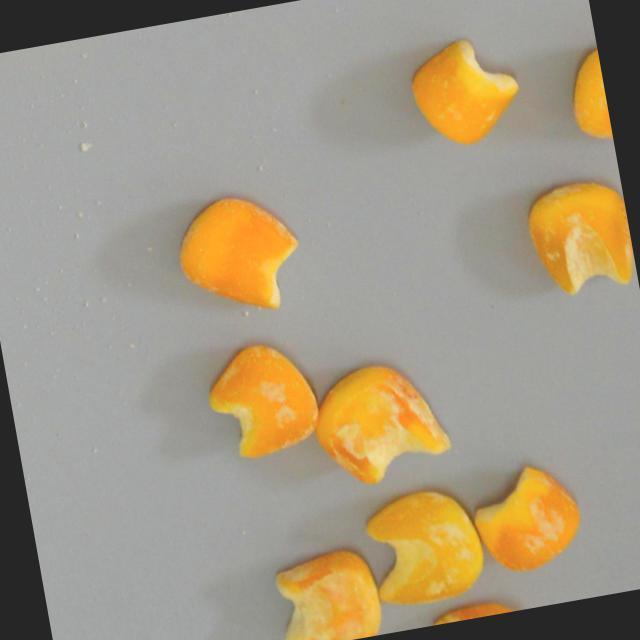dañado: (303, 350, 457, 493), (164, 180, 309, 328), (356, 475, 491, 613), (195, 332, 325, 470), (516, 167, 640, 308), (399, 24, 531, 156), (463, 456, 587, 580), (267, 539, 386, 640)
pelicula: (555, 42, 615, 158)
